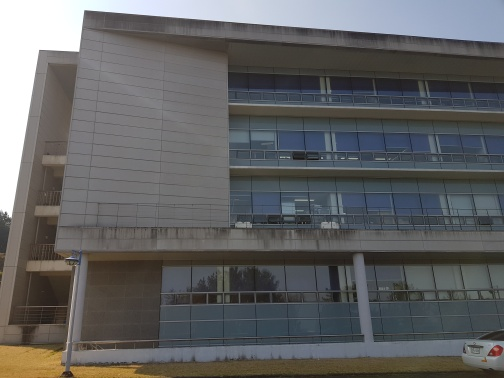Engineering College Building 4: (41, 34, 504, 332), (36, 38, 225, 366)
